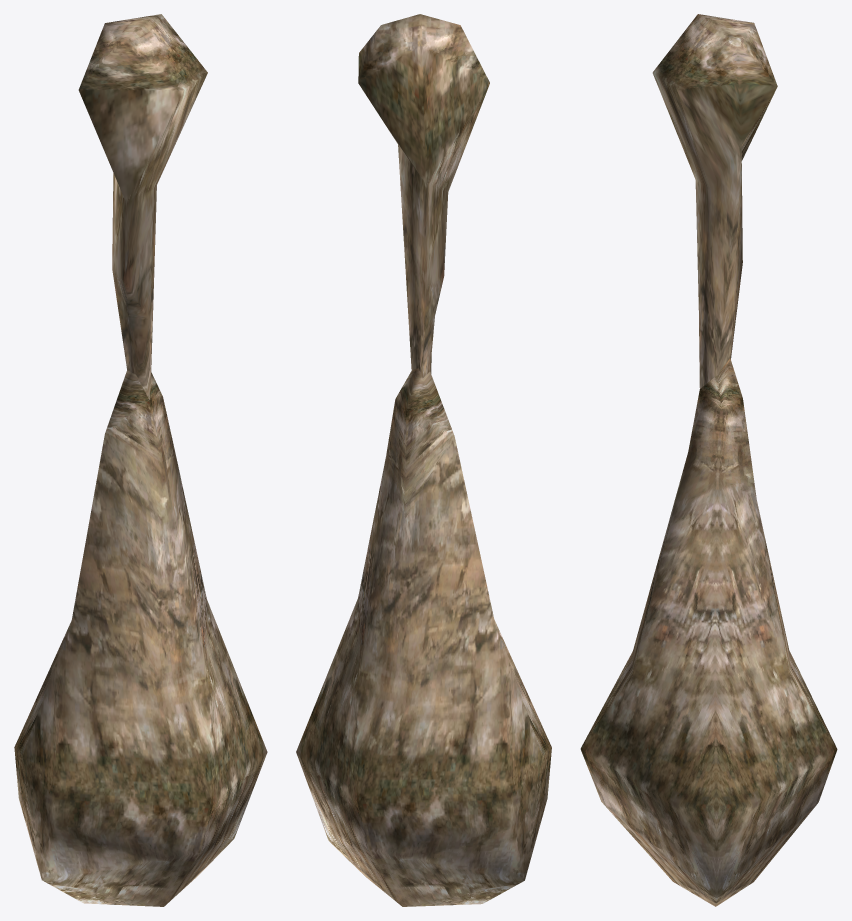
File: thm_all_cave_column_a3_l2.fbx
The picture shows the model from 3 angles, left to right: view 1: azimuth 30°, elevation 25°; view 2: azimuth 150°, elevation 25°; view 3: azimuth 270°, elevation 25°; orthographic projection.
Parts seen in each view (by area): view 1: mesh_node; view 2: mesh_node; view 3: mesh_node.
Part boxes in pixels (box(x1,y1,x2,y2)): mesh_node: box(14, 14, 267, 906); mesh_node: box(296, 14, 551, 906); mesh_node: box(580, 14, 837, 906).
Bounding box in the file's own units: 4.26 × 15.14 × 4.09.
